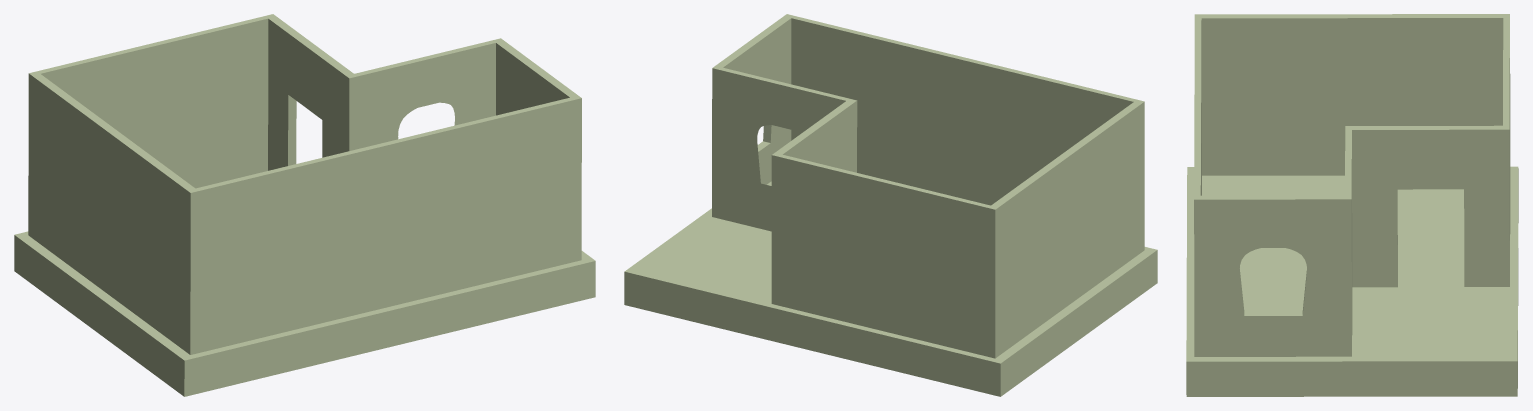
The model's file is 房子主体.fbx.
The picture shows the model from 3 angles, left to right: view 1: azimuth 30°, elevation 25°; view 2: azimuth 150°, elevation 25°; view 3: azimuth 270°, elevation 25°; orthographic projection. The views are drawn at different scales.
Parts seen in each view (by area): view 1: 平面.001; view 2: 平面.001; view 3: 平面.001.
Boxes of the visible parts, box(x1,y1,x2,y2) form: 平面.001: box(14, 14, 595, 396); 平面.001: box(624, 14, 1157, 396); 平面.001: box(1186, 14, 1518, 396).
Bounding box in the file's own units: 178 × 82.72 × 129.
